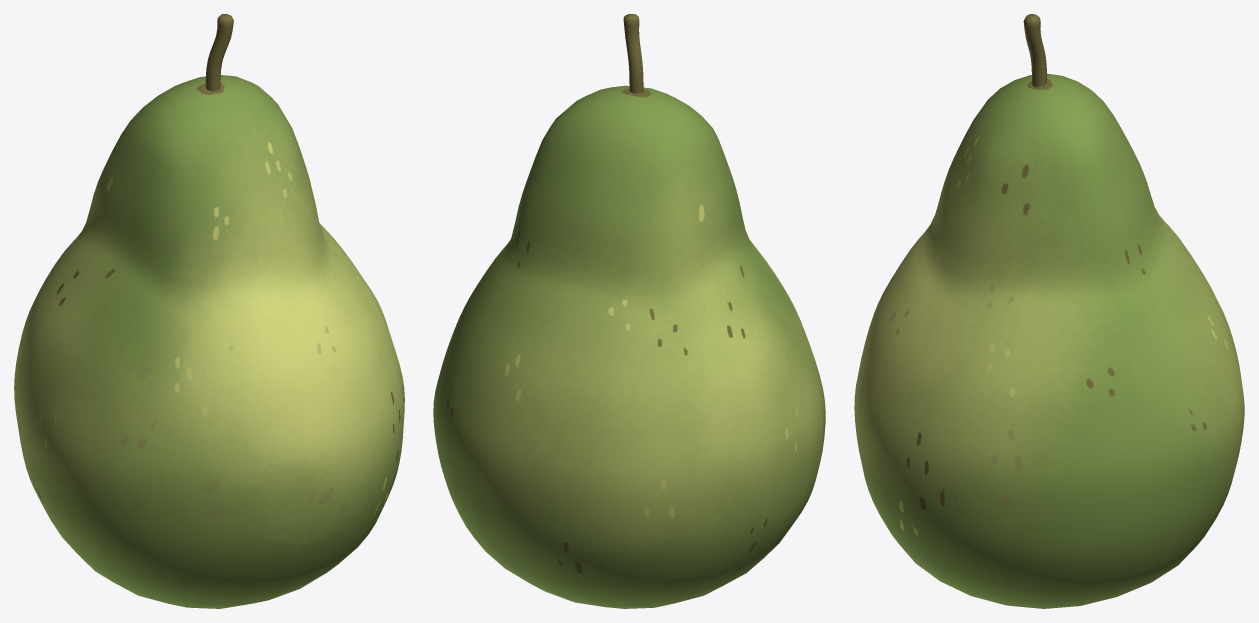
Rendered from Pear.fbx.
The picture shows the model from 3 angles, left to right: view 1: azimuth 30°, elevation 25°; view 2: azimuth 150°, elevation 25°; view 3: azimuth 270°, elevation 25°; orthographic projection.
Parts seen in each view (by area): view 1: Pear; view 2: Pear; view 3: Pear.
Boxes of the visible parts, x1,y1,x2,y2 form: Pear: (14, 14, 404, 608); Pear: (433, 14, 825, 608); Pear: (854, 14, 1244, 608).
Size of the model in its own units: 136 by 222 by 136.
1 material, 1 textured.
